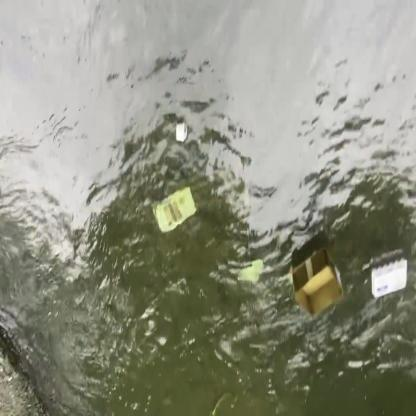Metal: (236, 256, 267, 288)
Plastic: (148, 182, 198, 238), (368, 253, 410, 302), (183, 121, 188, 143)
Trash: (174, 119, 186, 146)
